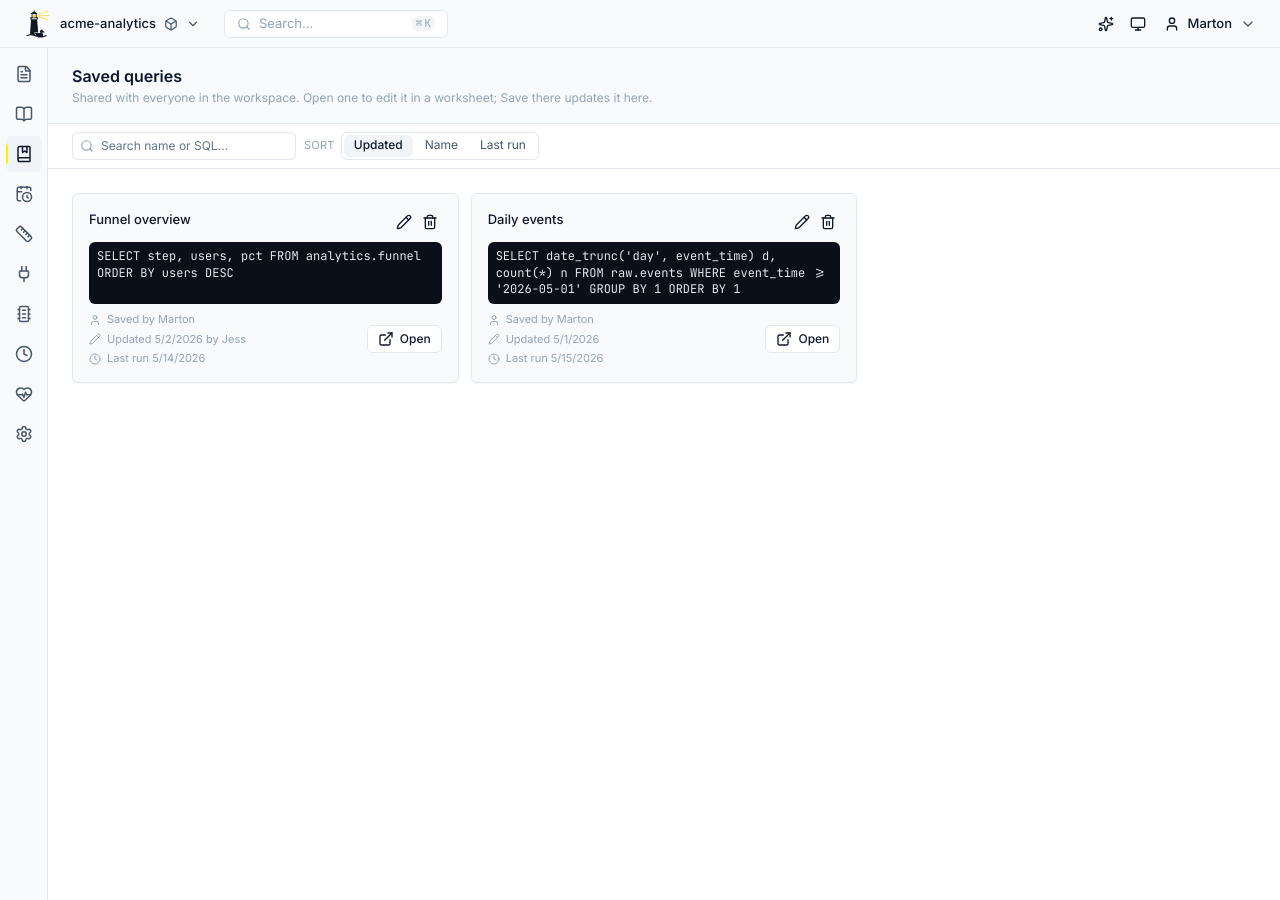
Scenario: SavedQueriesPage › renames a saved query
Expected: the text "Daily events" is shown, [488,210,563,229]
Click the button named "Rename Daily events": (802, 222) [790,210,814,234]
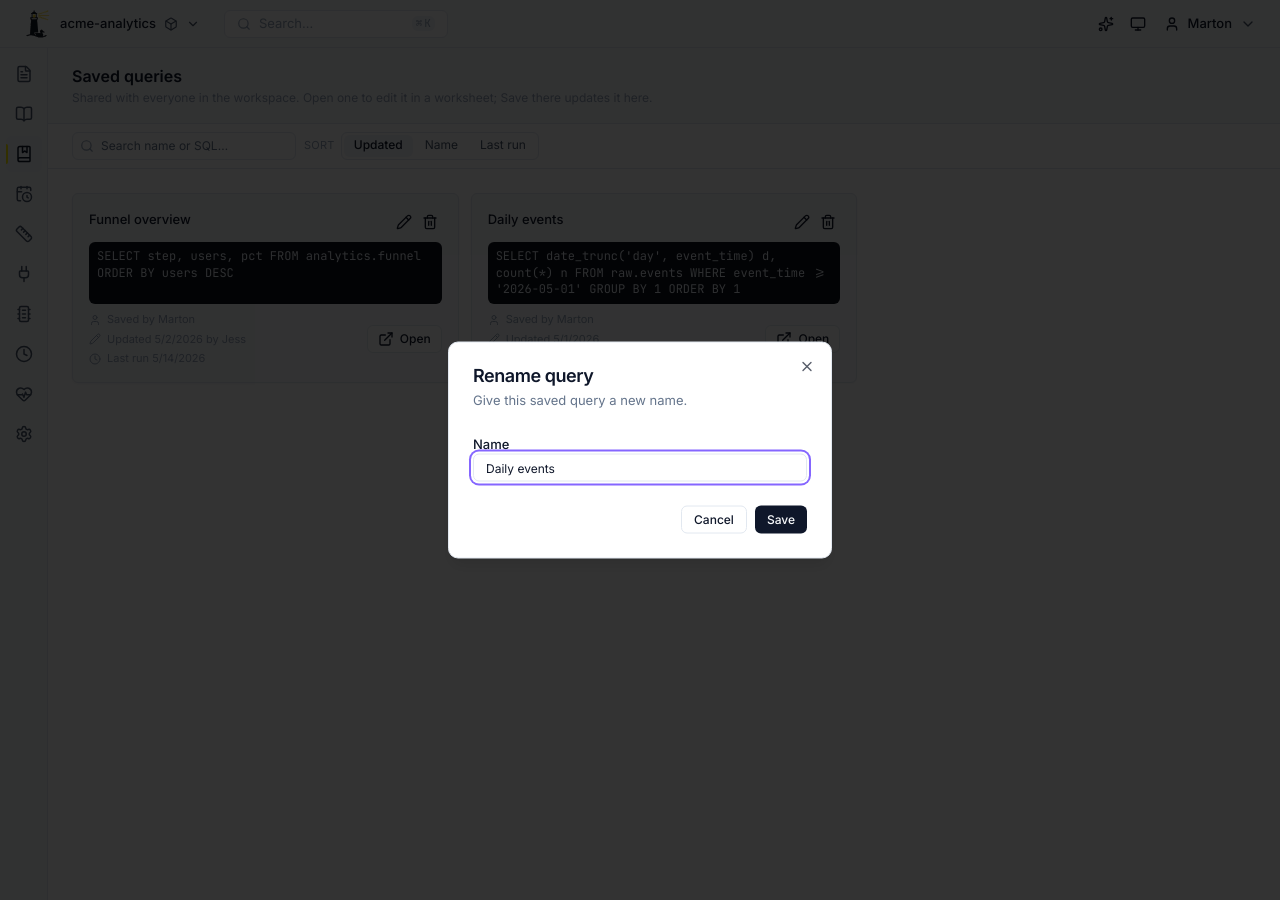
Replace the text in the field labelled "Name" with "Weekly events": (640, 468) [473,454,807,482]
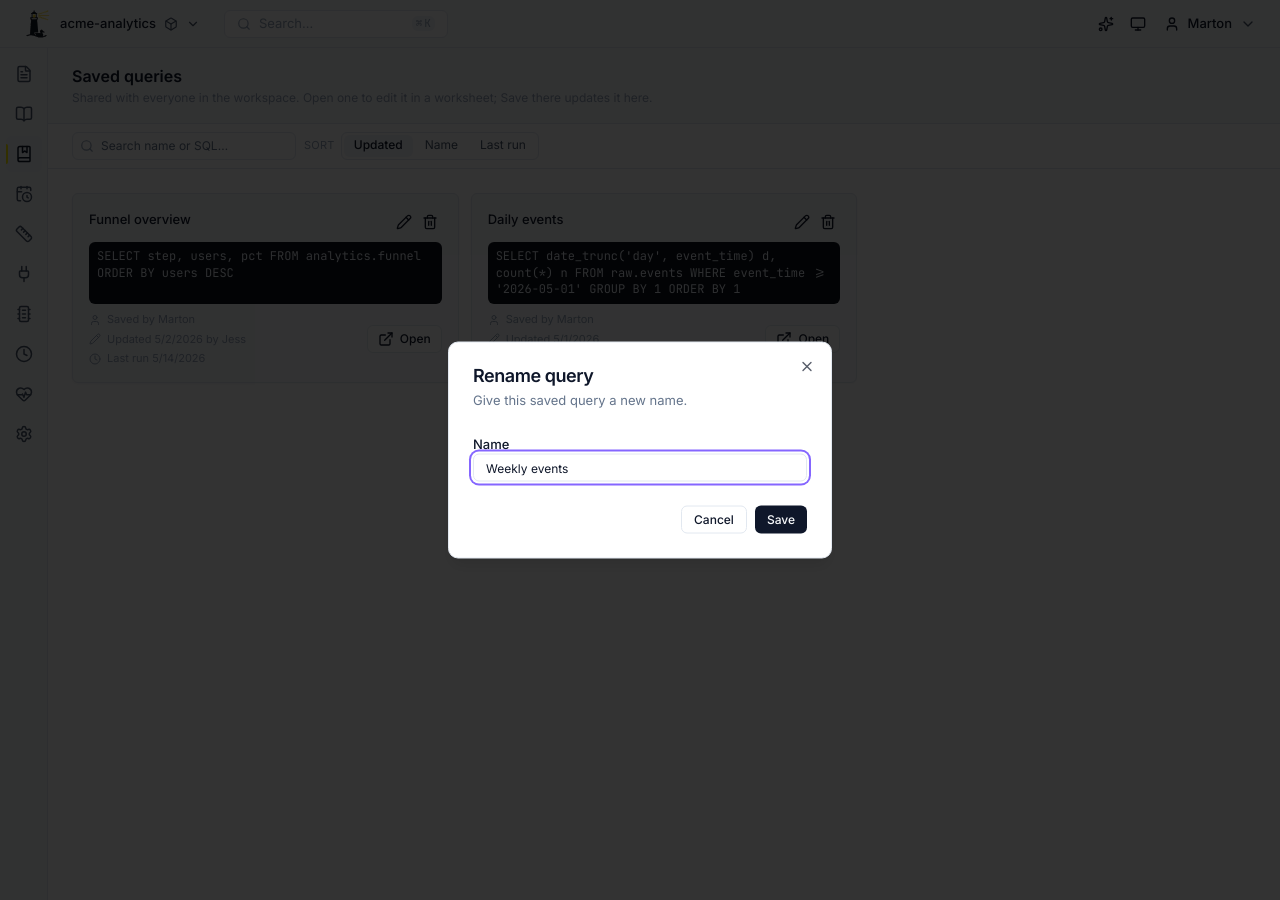
Click the button "Save": (781, 520) [755,506,807,534]
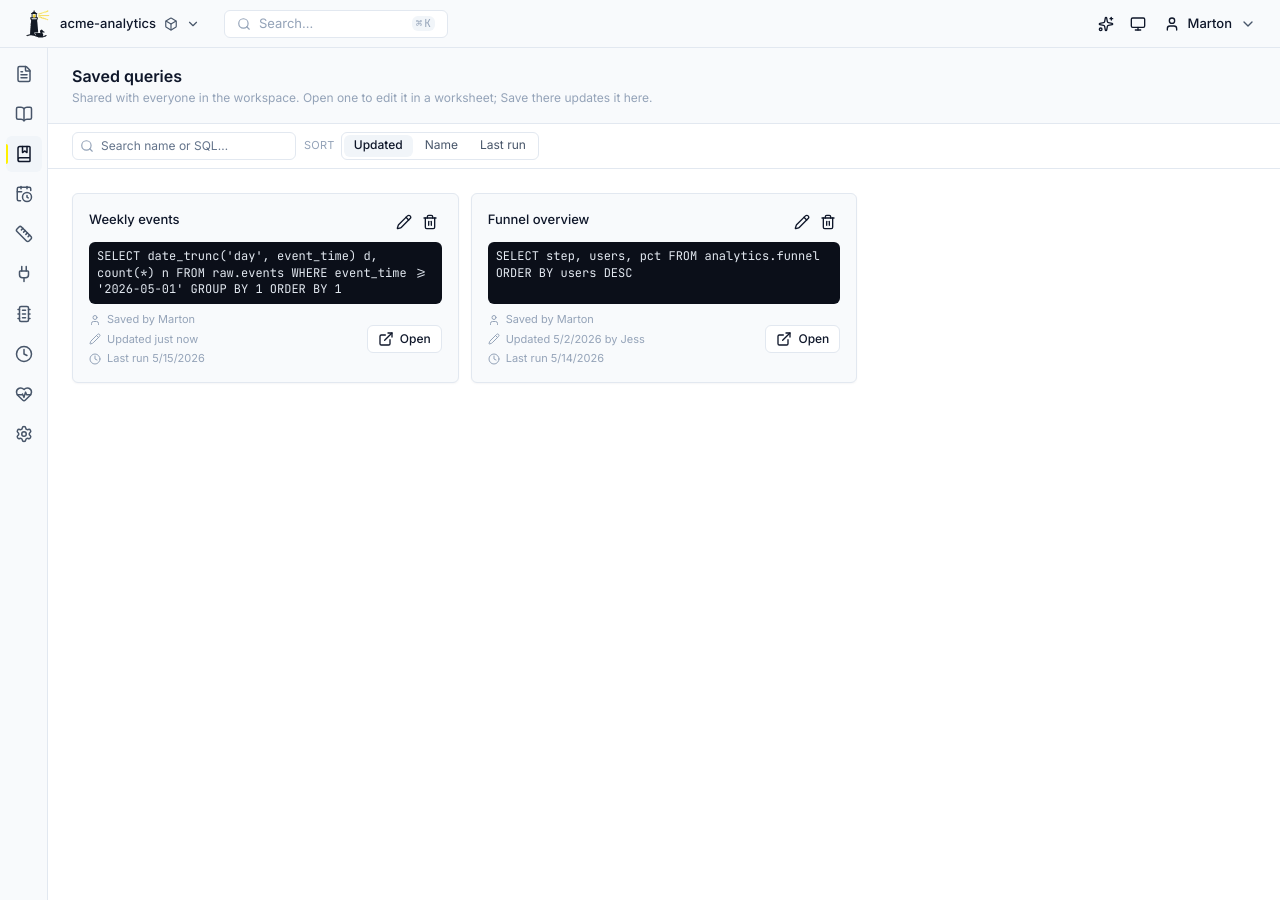
Expected: the text "Weekly events" is shown, [89,210,180,229]
Expected: the text "Daily events" is gone
